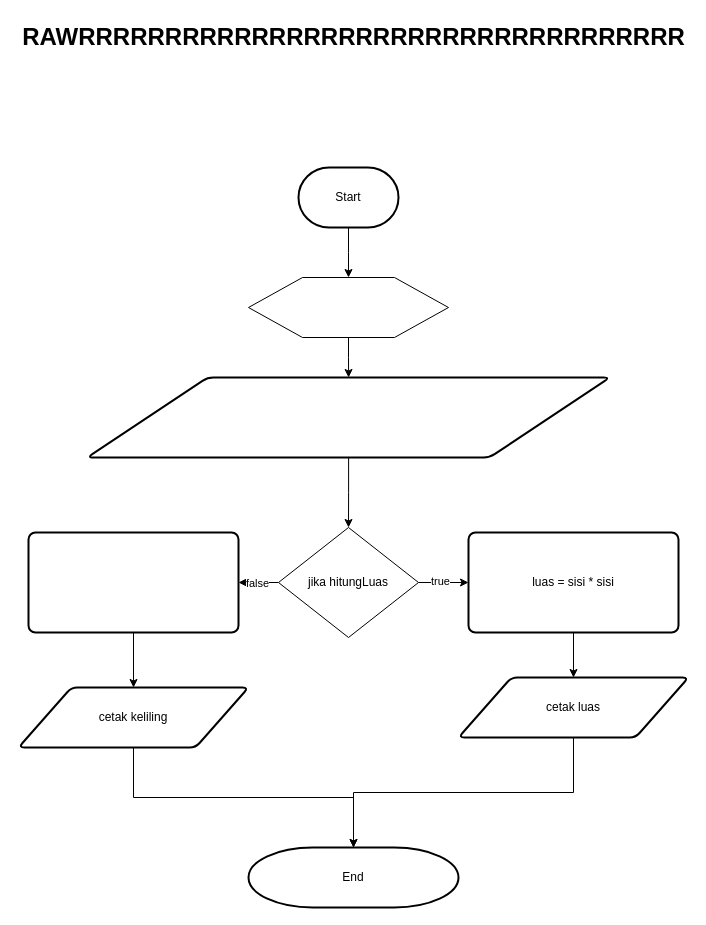
This 706x925 diagram has some shape labels left out. Here are the shapes that lost their labels. From the top down, the box of each, then its label:
(248, 276, 448, 338): boolean hitungLuas = false int sisi
(86, 376, 610, 458): masukkan sisi masukkan true ke hitungLuas jika menghitung hitungLuas
(27, 531, 239, 633): keliling = 4 * sisi
